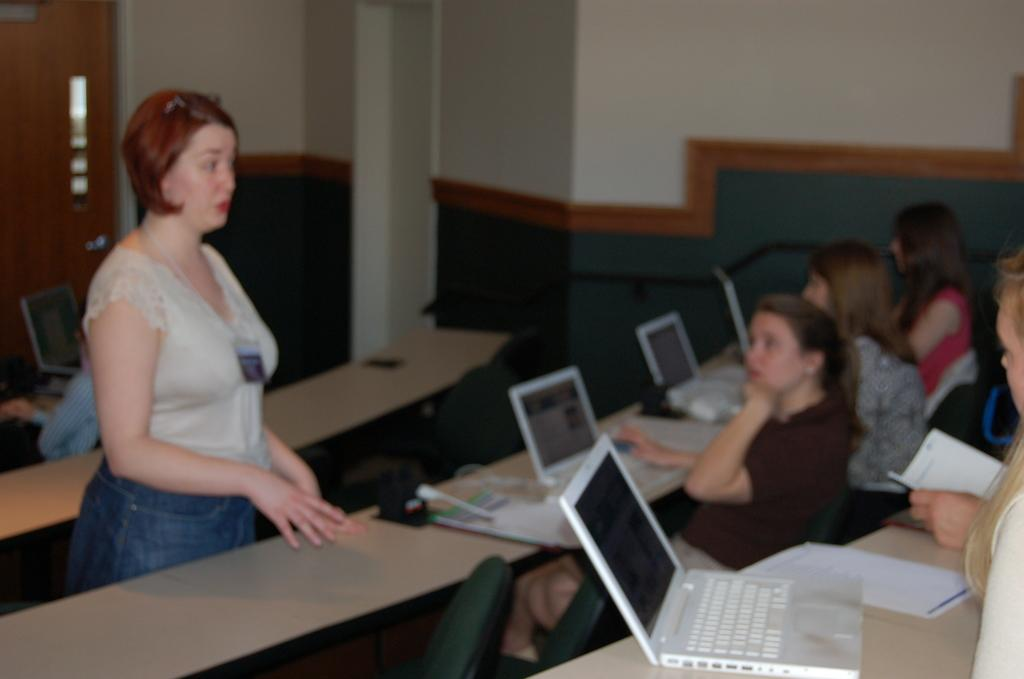Laptop: (566, 452, 929, 664), (506, 366, 682, 497), (636, 309, 745, 418), (20, 281, 83, 376), (714, 265, 751, 350)
